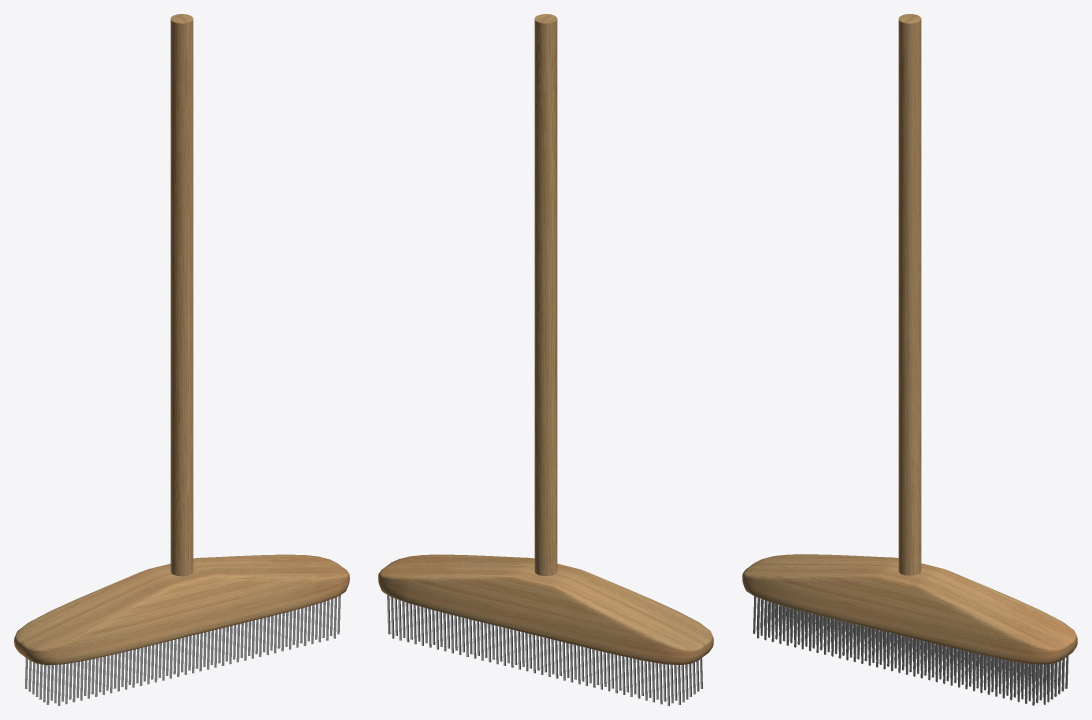
Rendered from Brosse_V2.fbx.
3 views of the same model, side by side, from view 1: azimuth 30°, elevation 25°; view 2: azimuth 150°, elevation 25°; view 3: azimuth 330°, elevation 25° (orthographic).
Parts seen in each view (by area): view 1: Brosse1, pCylinder1; view 2: Brosse1, pCylinder1; view 3: Brosse1, pCylinder1.
Boxes of the visible parts, x1=… form: Brosse1: x1=14, y1=554, x2=349, y2=705; pCylinder1: x1=170, y1=14, x2=193, y2=576; Brosse1: x1=378, y1=554, x2=713, y2=705; pCylinder1: x1=534, y1=14, x2=557, y2=575; Brosse1: x1=742, y1=554, x2=1077, y2=705; pCylinder1: x1=898, y1=14, x2=921, y2=575.
Size of the model in its own units: 6.06 by 11.62 by 1.32.
